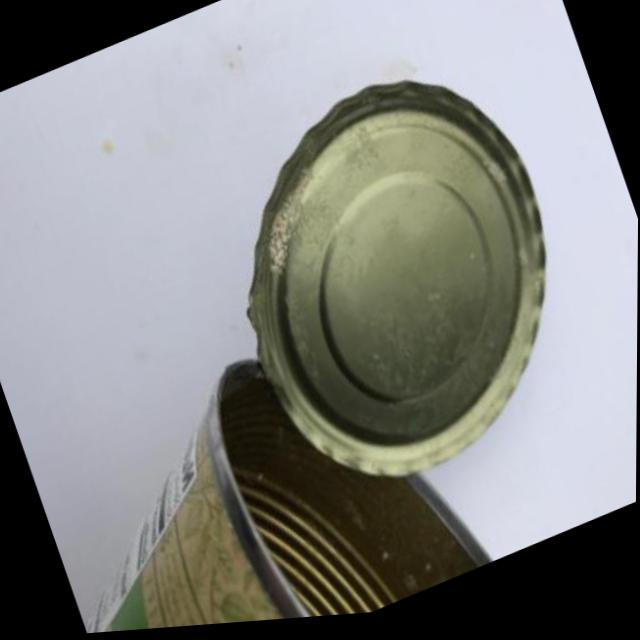metal: (66, 0, 639, 639)
